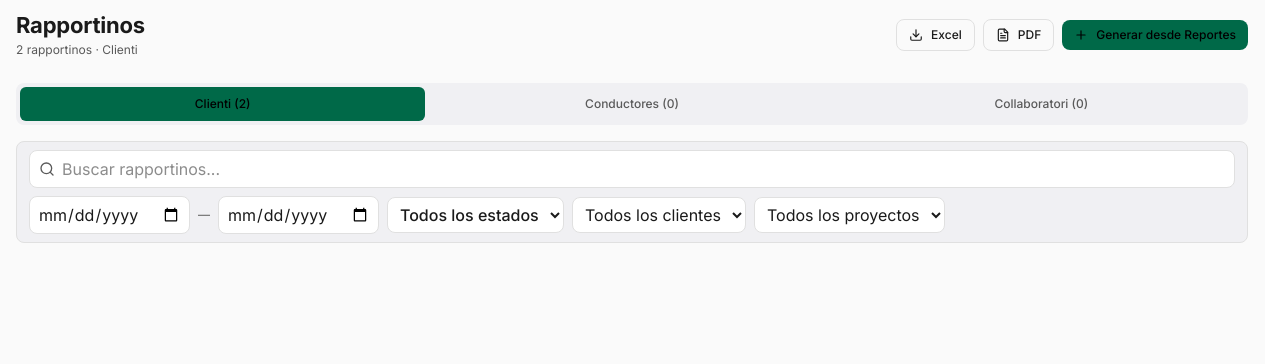
Test case: RapportinoScreen › switches to driver tab and loads driver rapportinos
Click the button "Conductores (0)" at (632, 104), box [429, 87, 835, 121]
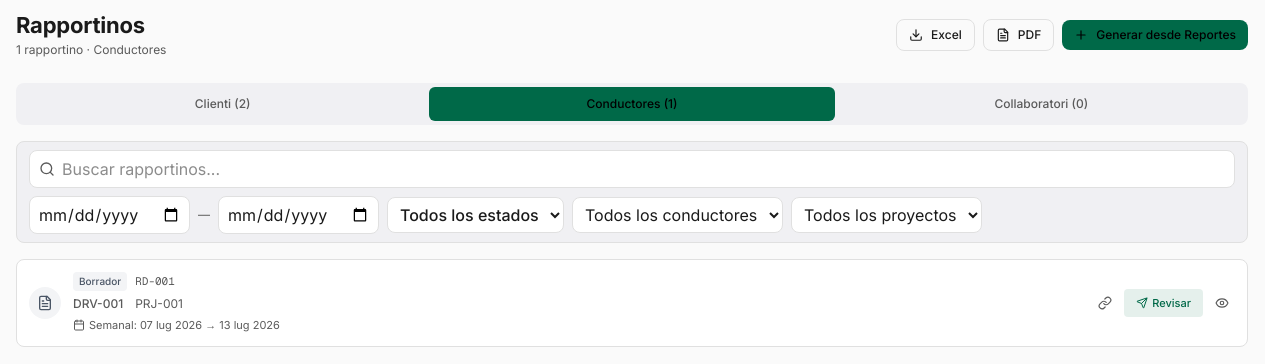
Expected: the text "RD-001" is shown, [135, 273, 175, 290]
